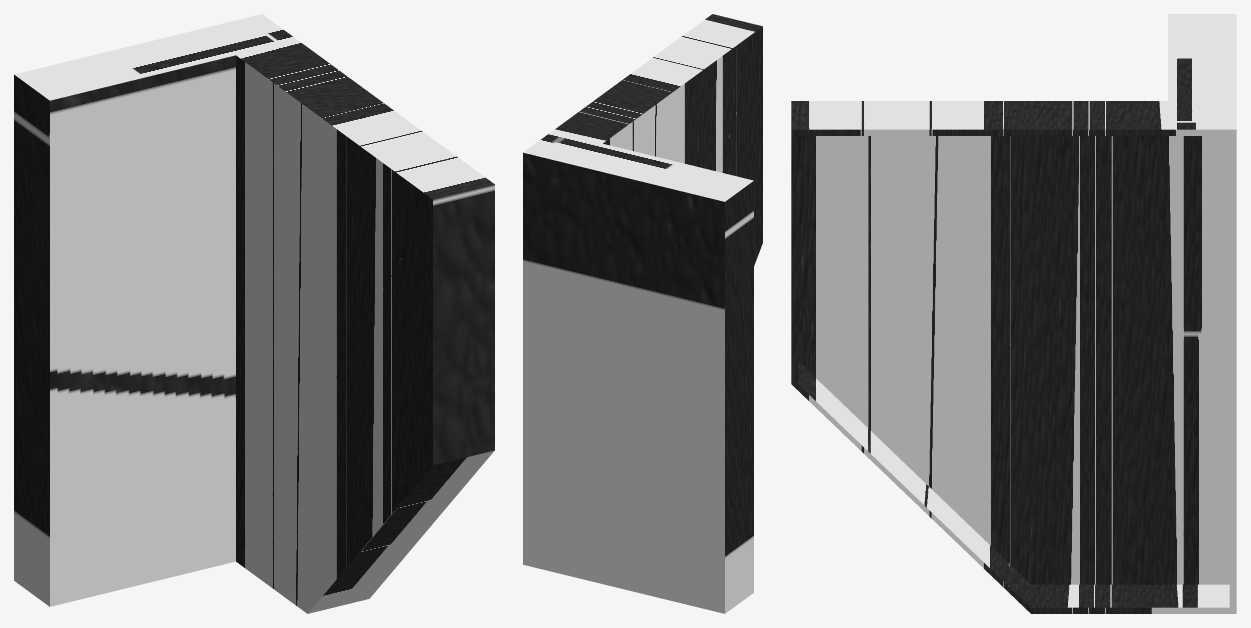
Rendered from Platform1.gltf.
The picture shows the model from 3 angles, left to right: view 1: azimuth 30°, elevation 25°; view 2: azimuth 150°, elevation 25°; view 3: azimuth 270°, elevation 25°; orthographic projection. The views are drawn at different scales.
Parts seen in each view (by area): view 1: Platform1; view 2: Platform1; view 3: Platform1.
Boxes of the visible parts, x1,y1,x2,y2 form: Platform1: (14, 14, 494, 613); Platform1: (523, 14, 762, 613); Platform1: (791, 14, 1236, 613).
Bounding box in the file's own units: 40 × 78 × 65.
1 material, 1 textured.
